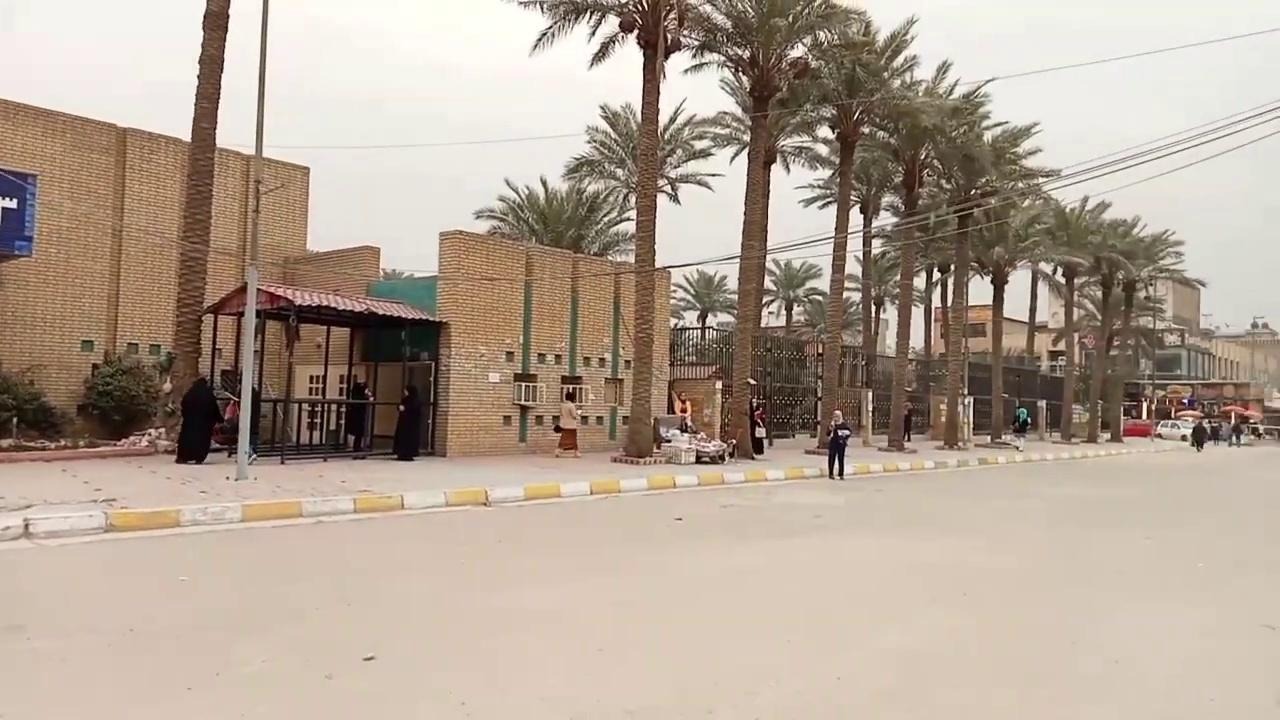car: (1154, 419, 1196, 441), (1121, 416, 1156, 437)
person: (174, 376, 223, 464), (344, 377, 372, 457), (392, 384, 421, 460), (554, 390, 582, 457), (825, 409, 851, 480), (749, 397, 766, 456), (674, 390, 696, 432), (1011, 404, 1030, 452), (1191, 419, 1208, 451), (902, 400, 914, 442)
tree: (558, 0, 1280, 448), (511, 0, 727, 458), (767, 12, 944, 452), (680, 0, 857, 399), (853, 59, 989, 451), (918, 87, 1057, 448), (1051, 214, 1205, 442), (470, 173, 624, 375), (162, 0, 232, 441), (561, 96, 721, 264), (1021, 193, 1113, 441), (963, 190, 1050, 443), (471, 173, 620, 253), (761, 255, 826, 432), (670, 267, 738, 357), (761, 255, 825, 338), (845, 248, 900, 339), (795, 291, 862, 346)
